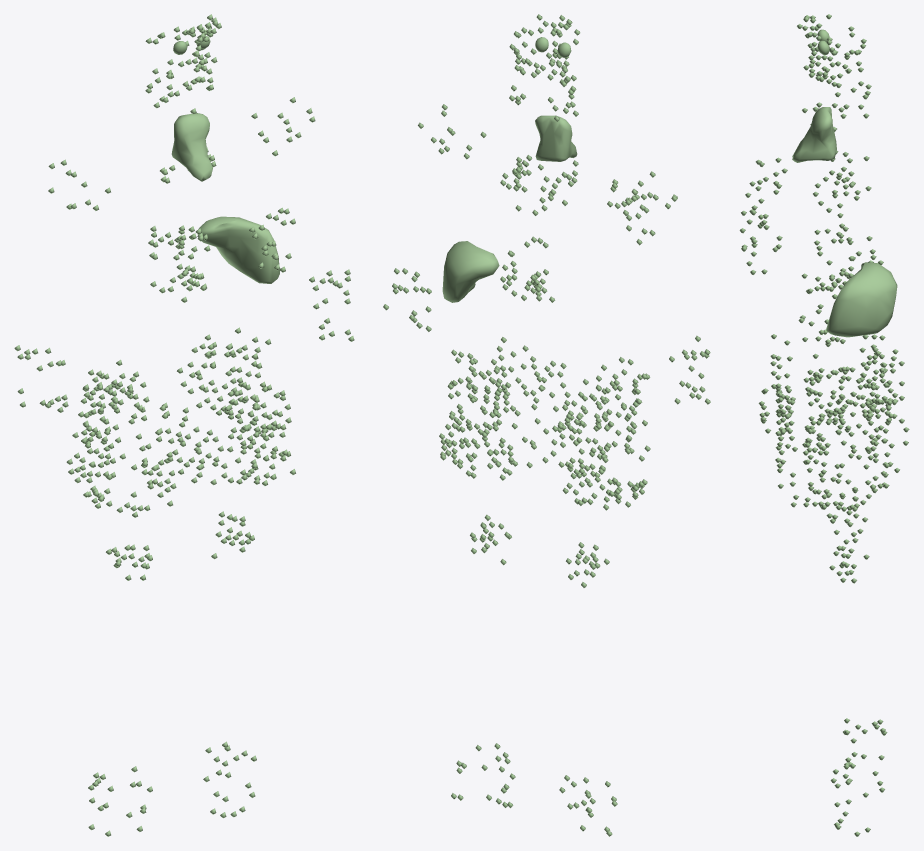
File: pediatric_child_10y_male.lymphatic.LOD2.glb
3 renders of one model, left to right at view 1: azimuth 30°, elevation 25°; view 2: azimuth 150°, elevation 25°; view 3: azimuth 270°, elevation 25°, orthographic. The views are drawn at different scales.
Parts seen in each view (by area): view 1: PEDIATRIC.CHILD_10Y.MALE.LYMPHATIC.LYMPHATIC_NODES_TRUNK, PEDIATRIC.CHILD_10Y.MALE.LYMPHATIC.SPLEEN, PEDIATRIC.CHILD_10Y.MALE.LYMPHATIC.THYMUS, PEDIATRIC.CHILD_10Y.MALE.LYMPHATIC.LYMPHATIC_NODES_ET, PEDIATRIC.CHILD_10Y.MALE.LYMPHATIC.LYMPHATIC_NODES_ARMS, PEDIATRIC.CHILD_10Y.MALE.LYMPHATIC.LYMPHATIC_NODES_LEGS, PEDIATRIC.CHILD_10Y.MALE.LYMPHATIC.LYMPHATIC_NODES_THORACIC; view 2: PEDIATRIC.CHILD_10Y.MALE.LYMPHATIC.LYMPHATIC_NODES_TRUNK, PEDIATRIC.CHILD_10Y.MALE.LYMPHATIC.SPLEEN, PEDIATRIC.CHILD_10Y.MALE.LYMPHATIC.THYMUS, PEDIATRIC.CHILD_10Y.MALE.LYMPHATIC.LYMPHATIC_NODES_ET, PEDIATRIC.CHILD_10Y.MALE.LYMPHATIC.LYMPHATIC_NODES_THORACIC, PEDIATRIC.CHILD_10Y.MALE.LYMPHATIC.LYMPHATIC_NODES_LEGS, PEDIATRIC.CHILD_10Y.MALE.LYMPHATIC.LYMPHATIC_NODES_ARMS; view 3: PEDIATRIC.CHILD_10Y.MALE.LYMPHATIC.LYMPHATIC_NODES_TRUNK, PEDIATRIC.CHILD_10Y.MALE.LYMPHATIC.SPLEEN, PEDIATRIC.CHILD_10Y.MALE.LYMPHATIC.THYMUS, PEDIATRIC.CHILD_10Y.MALE.LYMPHATIC.LYMPHATIC_NODES_ET, PEDIATRIC.CHILD_10Y.MALE.LYMPHATIC.LYMPHATIC_NODES_THORACIC, PEDIATRIC.CHILD_10Y.MALE.LYMPHATIC.LYMPHATIC_NODES_ARMS, PEDIATRIC.CHILD_10Y.MALE.LYMPHATIC.LYMPHATIC_NODES_LEGS, PEDIATRIC.CHILD_10Y.MALE.LYMPHATIC.LYMPHATIC_NODES_HEAD.
Boxes of the visible parts, x1=… form: PEDIATRIC.CHILD_10Y.MALE.LYMPHATIC.LYMPHATIC_NODES_TRUNK: x1=48, y1=97, x2=315, y2=580; PEDIATRIC.CHILD_10Y.MALE.LYMPHATIC.SPLEEN: x1=197, y1=216, x2=279, y2=283; PEDIATRIC.CHILD_10Y.MALE.LYMPHATIC.THYMUS: x1=171, y1=113, x2=212, y2=181; PEDIATRIC.CHILD_10Y.MALE.LYMPHATIC.LYMPHATIC_NODES_ET: x1=145, y1=14, x2=221, y2=84; PEDIATRIC.CHILD_10Y.MALE.LYMPHATIC.LYMPHATIC_NODES_ARMS: x1=14, y1=269, x2=354, y2=412; PEDIATRIC.CHILD_10Y.MALE.LYMPHATIC.LYMPHATIC_NODES_LEGS: x1=88, y1=741, x2=256, y2=836; PEDIATRIC.CHILD_10Y.MALE.LYMPHATIC.LYMPHATIC_NODES_THORACIC: x1=148, y1=147, x2=216, y2=302; PEDIATRIC.CHILD_10Y.MALE.LYMPHATIC.LYMPHATIC_NODES_TRUNK: x1=418, y1=104, x2=677, y2=587; PEDIATRIC.CHILD_10Y.MALE.LYMPHATIC.SPLEEN: x1=442, y1=241, x2=499, y2=302; PEDIATRIC.CHILD_10Y.MALE.LYMPHATIC.THYMUS: x1=535, y1=115, x2=577, y2=161; PEDIATRIC.CHILD_10Y.MALE.LYMPHATIC.LYMPHATIC_NODES_ET: x1=509, y1=14, x2=580, y2=81; PEDIATRIC.CHILD_10Y.MALE.LYMPHATIC.LYMPHATIC_NODES_THORACIC: x1=500, y1=155, x2=578, y2=302; PEDIATRIC.CHILD_10Y.MALE.LYMPHATIC.LYMPHATIC_NODES_LEGS: x1=451, y1=743, x2=617, y2=836; PEDIATRIC.CHILD_10Y.MALE.LYMPHATIC.LYMPHATIC_NODES_ARMS: x1=383, y1=268, x2=710, y2=404; PEDIATRIC.CHILD_10Y.MALE.LYMPHATIC.LYMPHATIC_NODES_TRUNK: x1=739, y1=90, x2=909, y2=583; PEDIATRIC.CHILD_10Y.MALE.LYMPHATIC.SPLEEN: x1=826, y1=262, x2=897, y2=337; PEDIATRIC.CHILD_10Y.MALE.LYMPHATIC.THYMUS: x1=792, y1=107, x2=836, y2=162; PEDIATRIC.CHILD_10Y.MALE.LYMPHATIC.LYMPHATIC_NODES_ET: x1=797, y1=14, x2=866, y2=81; PEDIATRIC.CHILD_10Y.MALE.LYMPHATIC.LYMPHATIC_NODES_THORACIC: x1=819, y1=150, x2=883, y2=291; PEDIATRIC.CHILD_10Y.MALE.LYMPHATIC.LYMPHATIC_NODES_ARMS: x1=801, y1=223, x2=853, y2=430; PEDIATRIC.CHILD_10Y.MALE.LYMPHATIC.LYMPHATIC_NODES_LEGS: x1=830, y1=718, x2=887, y2=836; PEDIATRIC.CHILD_10Y.MALE.LYMPHATIC.LYMPHATIC_NODES_HEAD: x1=809, y1=61, x2=871, y2=112.
Bounding box in the file's own units: 0.3922 × 0.9178 × 0.1791.
